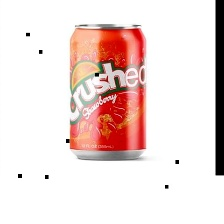can: (64, 19, 150, 165)
